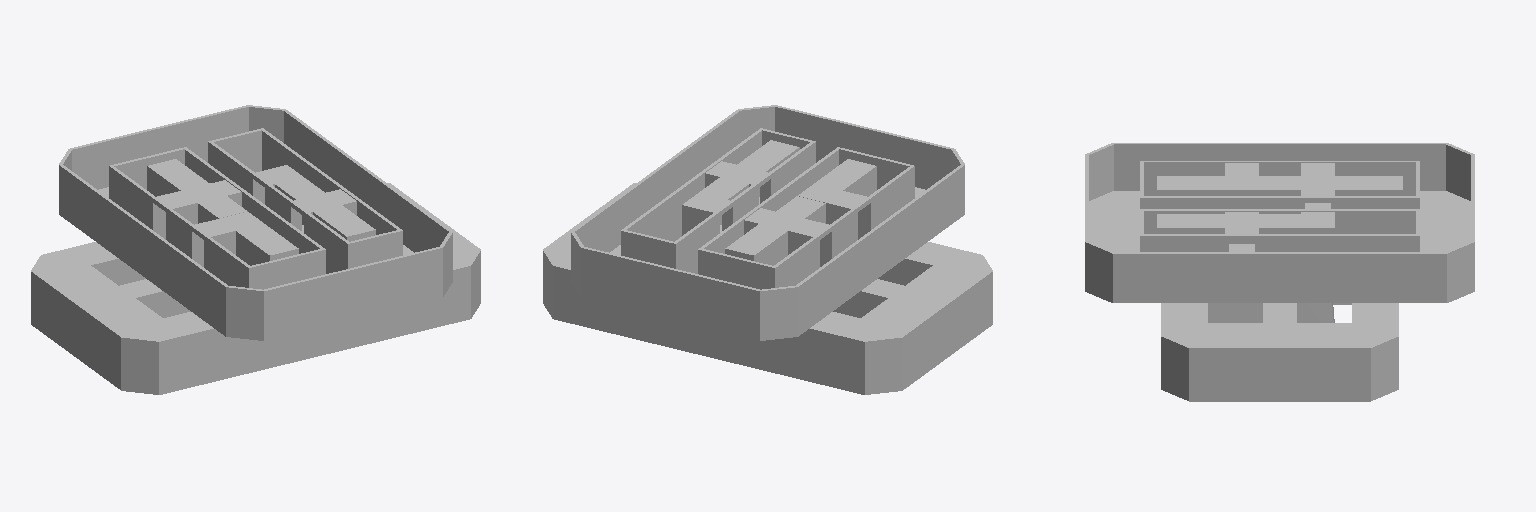
Rendered from 5D Space.obj.
The picture shows the model from 3 angles: view 1: azimuth 30°, elevation 25°; view 2: azimuth 150°, elevation 25°; view 3: azimuth 270°, elevation 25°; orthographic projection.
Visible parts, largest first — view 1: 5-D_Space.002, 5-D_Space.001; view 2: 5-D_Space.002, 5-D_Space.001; view 3: 5-D_Space.002, 5-D_Space.001.
Part boxes in pixels (left/top/right/bottom): 5-D_Space.002: left=59, top=105, right=452, bottom=340; 5-D_Space.001: left=31, top=183, right=480, bottom=394; 5-D_Space.002: left=571, top=105, right=964, bottom=340; 5-D_Space.001: left=543, top=183, right=992, bottom=394; 5-D_Space.002: left=1085, top=143, right=1474, bottom=302; 5-D_Space.001: left=1161, top=303, right=1398, bottom=401.
Size of the model in its own units: 52.2 by 16.03 by 49.